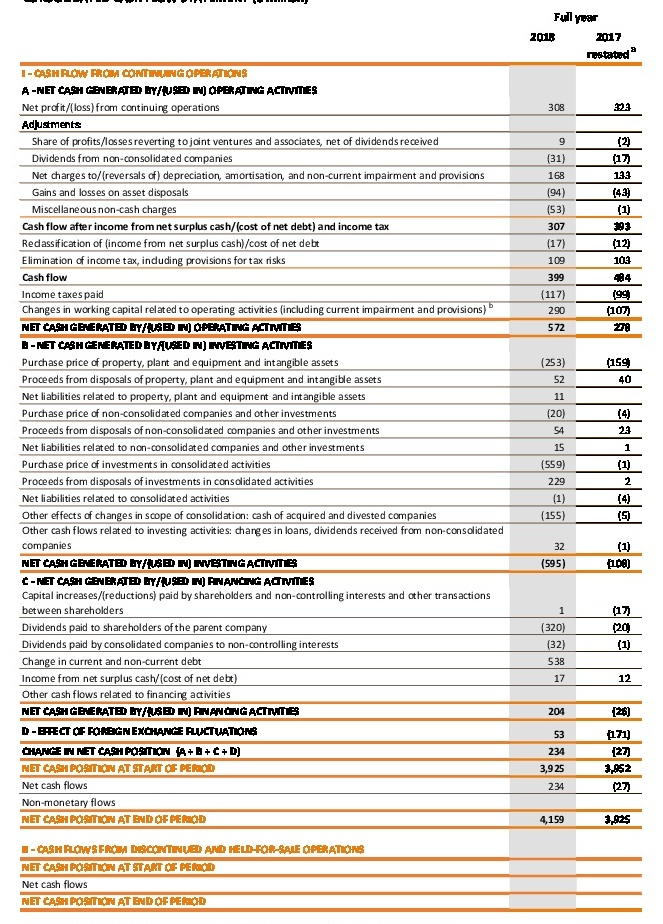table: (0, 0, 663, 924)
